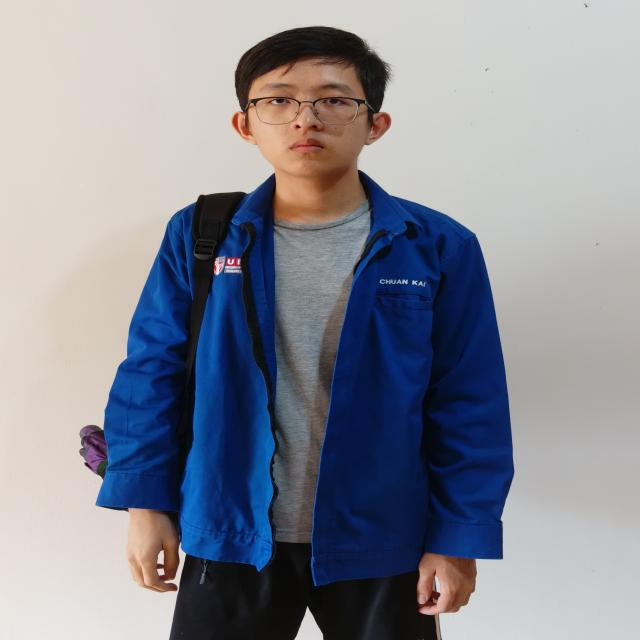person_with_labcoat: (81, 27, 513, 640)
